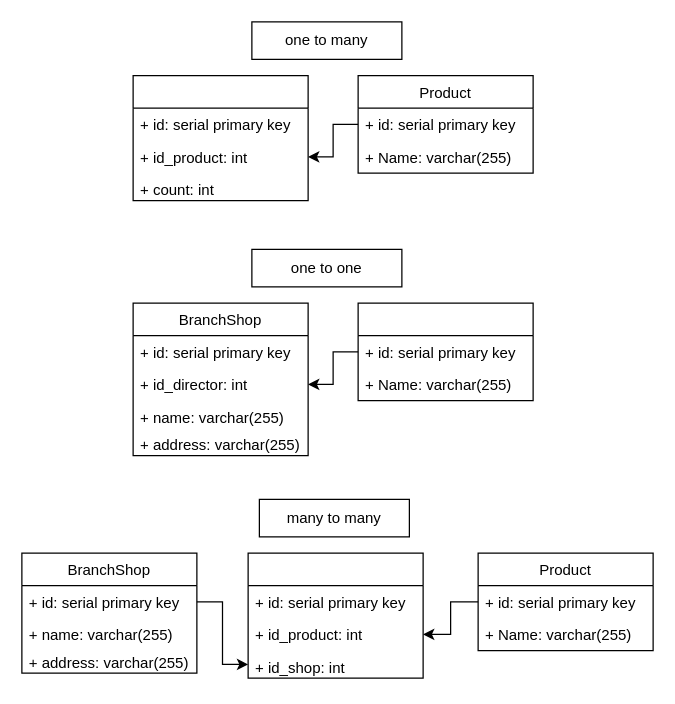
Some shapes in this 675 by 704 pixel diagram are drawn without their labels. Each missing label, with the box of its shape:
Director: (357, 302, 533, 401)
Shop: (132, 74, 308, 201)
Shops: (247, 552, 423, 678)
